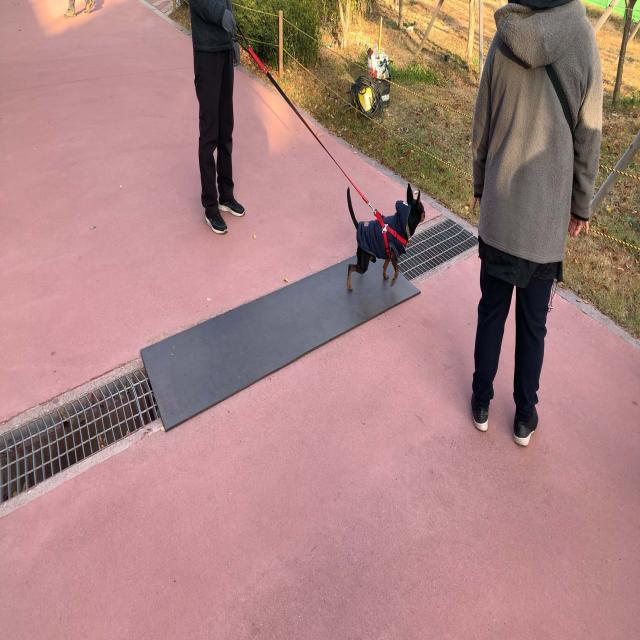Leashed_Dog: (199, 20, 425, 293)
